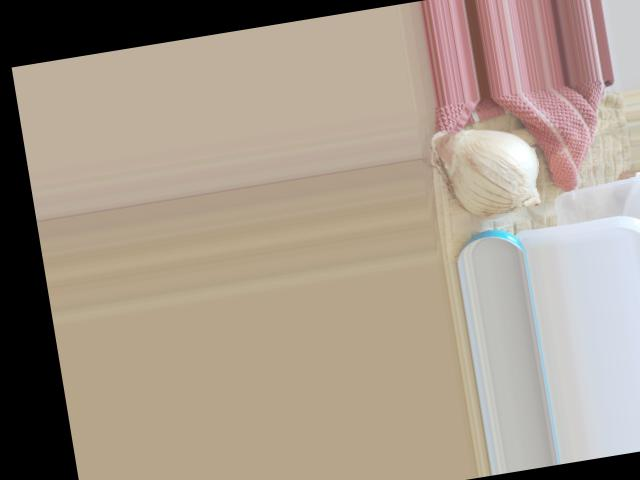onion: (430, 116, 545, 227)
